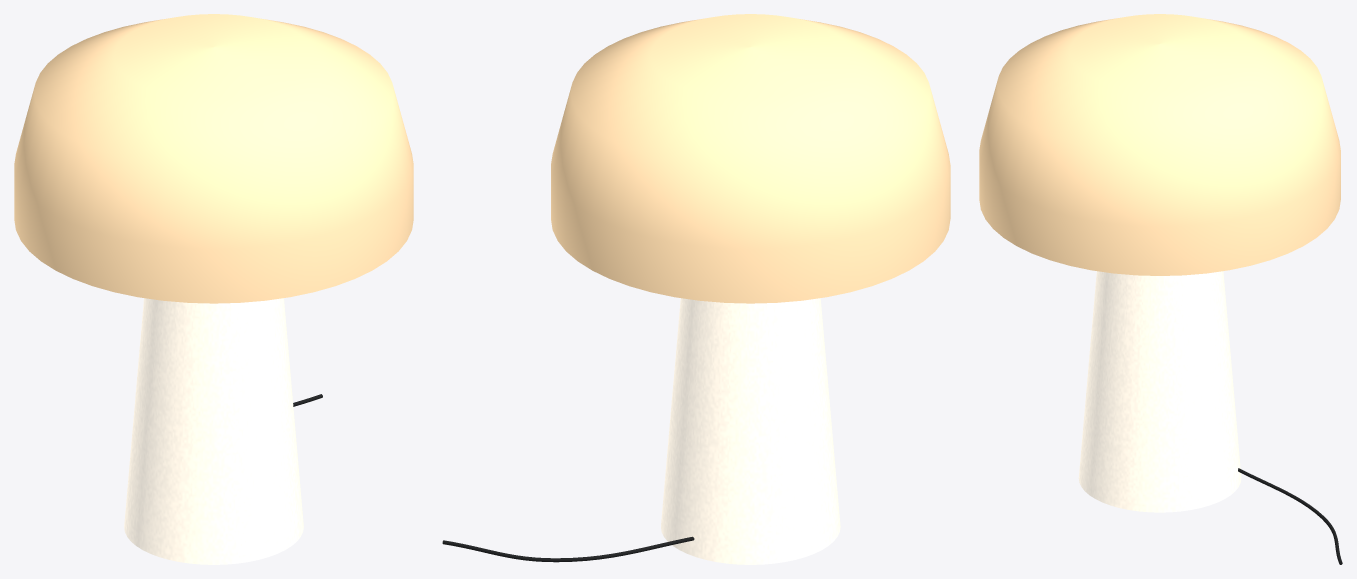
File: ref08_10.glb
3 renders of one model, left to right at view 1: azimuth 30°, elevation 25°; view 2: azimuth 150°, elevation 25°; view 3: azimuth 270°, elevation 25°, orthographic. The views are drawn at different scales.
Parts seen in each view (by area): view 1: ref08_10; view 2: ref08_10; view 3: ref08_10.
Boxes of the visible parts, x1,y1,x2,y2 form: ref08_10: [14, 14, 413, 564]; ref08_10: [442, 14, 950, 564]; ref08_10: [979, 14, 1342, 564].
Bounding box in the file's own units: 0.4403 × 0.53 × 0.402.
5 materials, 1 textured.
